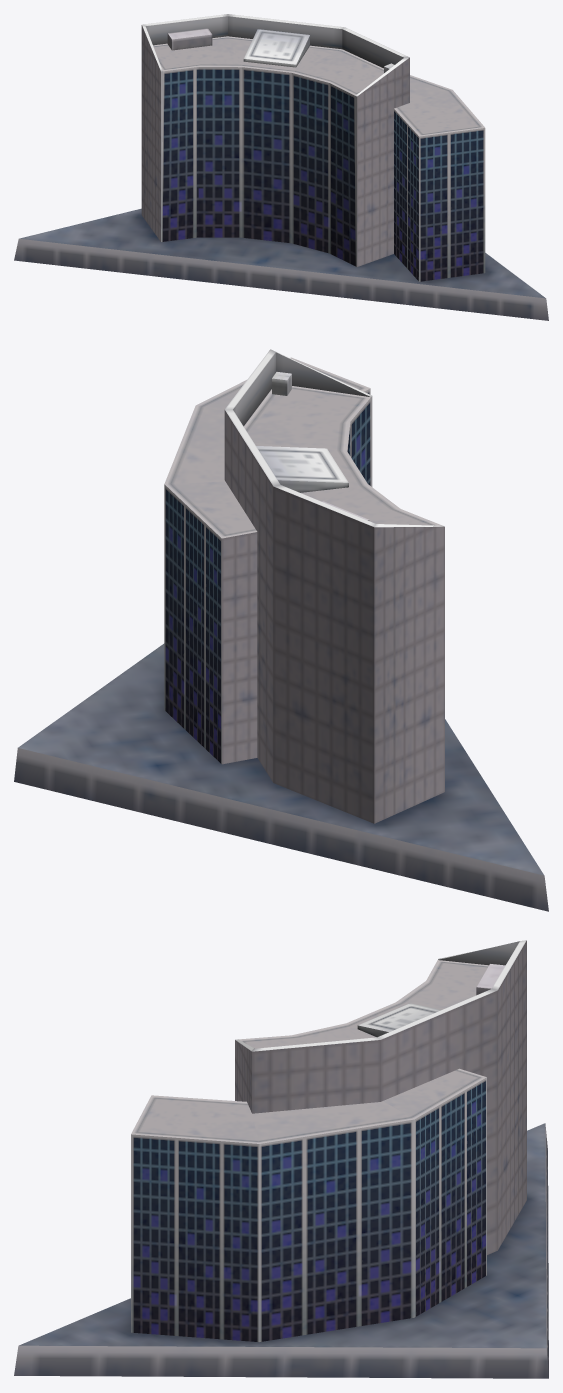
File: bank.fbx
3 views of the same model, one above another, from view 1: azimuth 30°, elevation 25°; view 2: azimuth 150°, elevation 25°; view 3: azimuth 270°, elevation 25° (orthographic). The views are drawn at different scales.
Parts seen in each view (by area): view 1: bank1; view 2: bank1; view 3: bank1.
Part boxes in pixels (x1,y1,x2,y2): bank1: (14, 14, 548, 320); bank1: (14, 349, 548, 911); bank1: (14, 940, 548, 1378).
Bounding box in the file's own units: 13.71 × 8.1 × 13.55.
